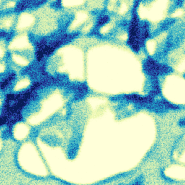hole_empty: (84, 40, 152, 98), (7, 33, 38, 70), (160, 68, 185, 109), (12, 12, 38, 36)
hole_filled: (9, 98, 158, 181)
